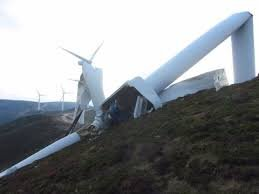faulty: (63, 41, 160, 112)
